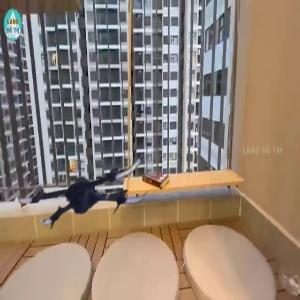drone: (20, 119, 148, 247)
